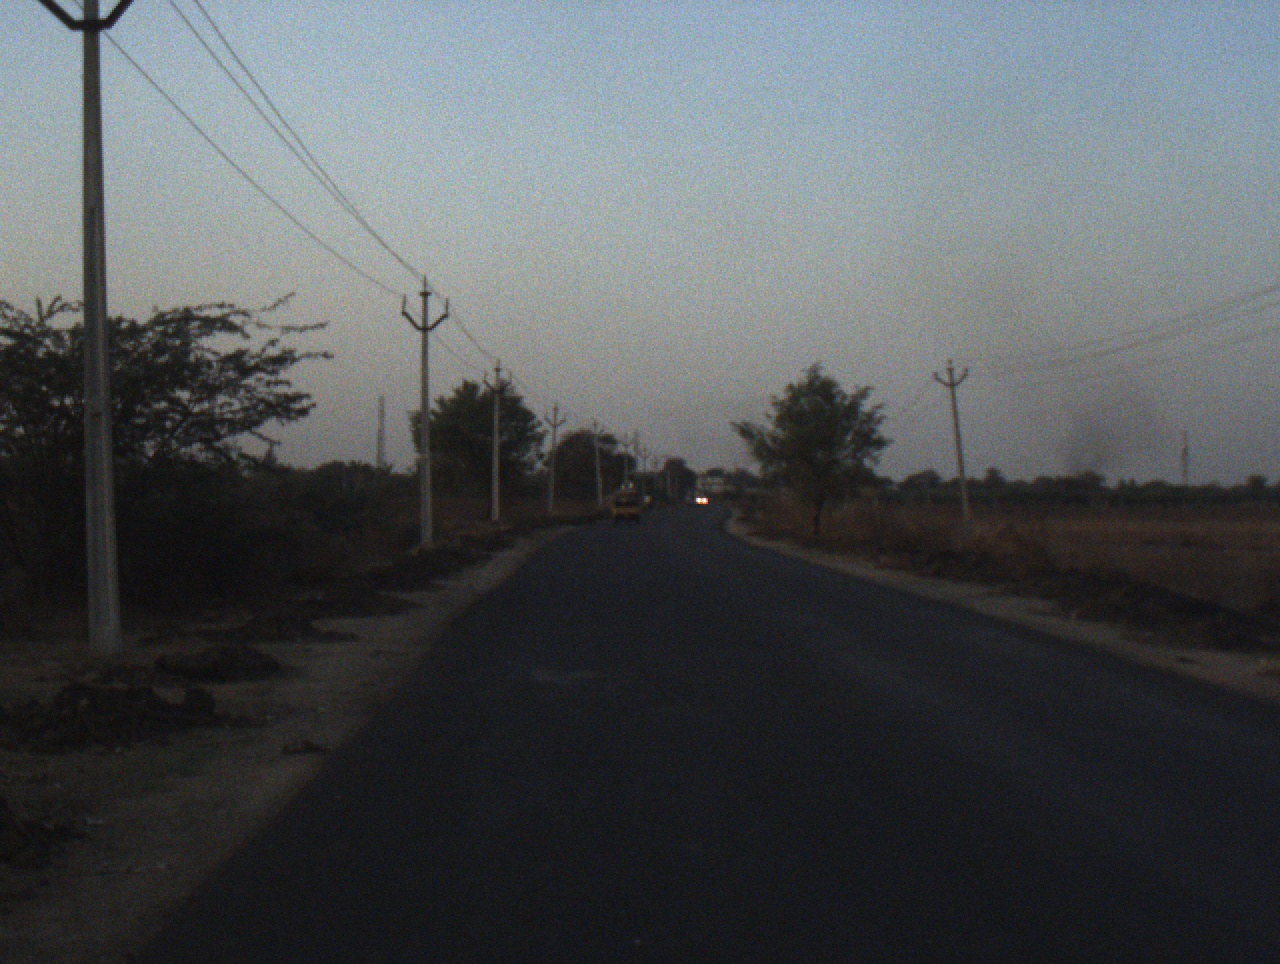autorickshaw: (611, 477, 645, 525)
motorcycle: (643, 502, 652, 511)
rider: (642, 491, 653, 508)
vehicle fallback: (685, 487, 708, 505)
